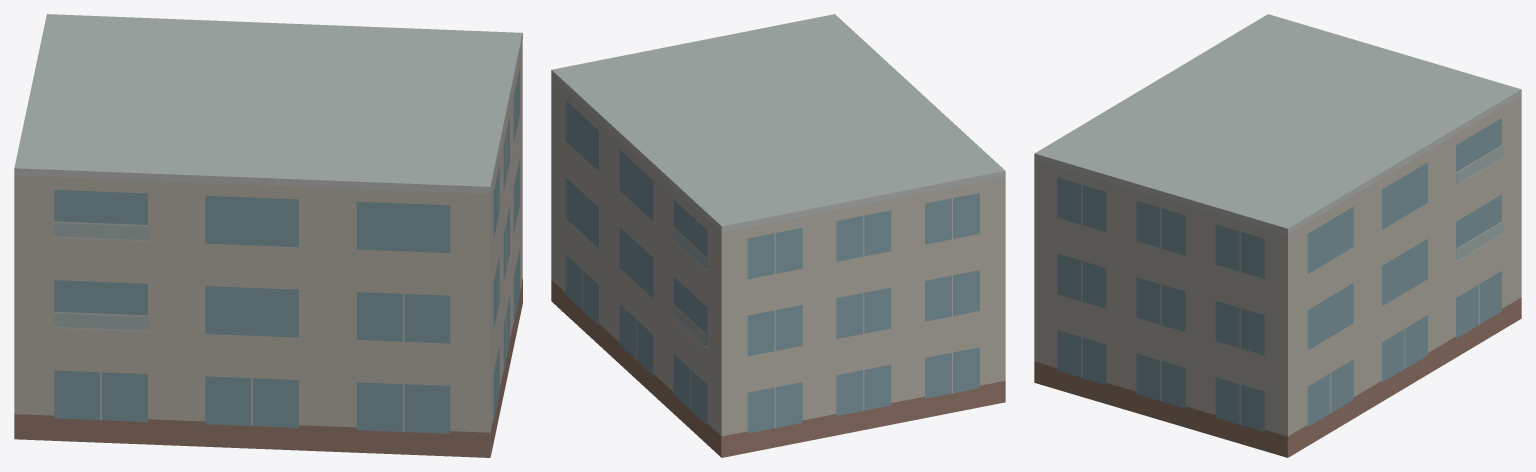
Rendered from survey-upis-32708083.glb.
3 views of the same model, side by side, from view 1: azimuth 30°, elevation 25°; view 2: azimuth 150°, elevation 25°; view 3: azimuth 270°, elevation 25° (orthographic). The views are drawn at different scales.
Visible parts, largest first — view 1: survey-upis-32708083.tmp; view 2: survey-upis-32708083.tmp; view 3: survey-upis-32708083.tmp.
Boxes of the visible parts, box(x1,y1,x2,y2) form: survey-upis-32708083.tmp: box(14, 14, 522, 457); survey-upis-32708083.tmp: box(551, 14, 1005, 457); survey-upis-32708083.tmp: box(1034, 14, 1521, 457).
Size of the model in its own units: 18.39 by 9.15 by 17.63.
